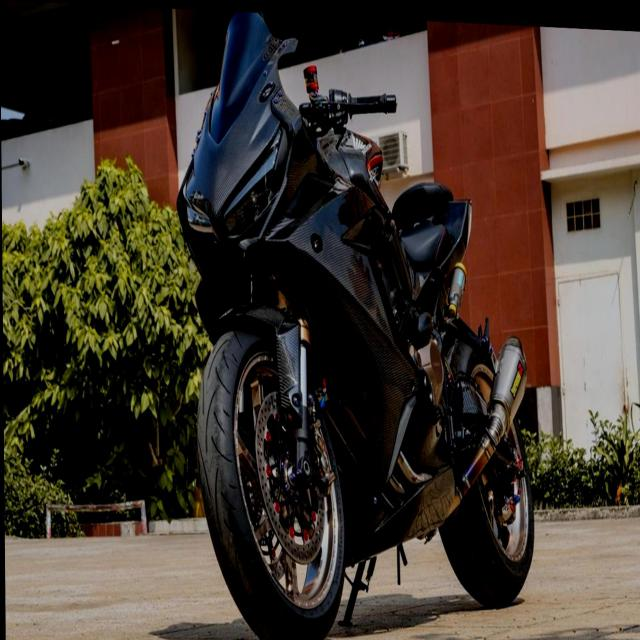CBR650R: (172, 6, 536, 640)
